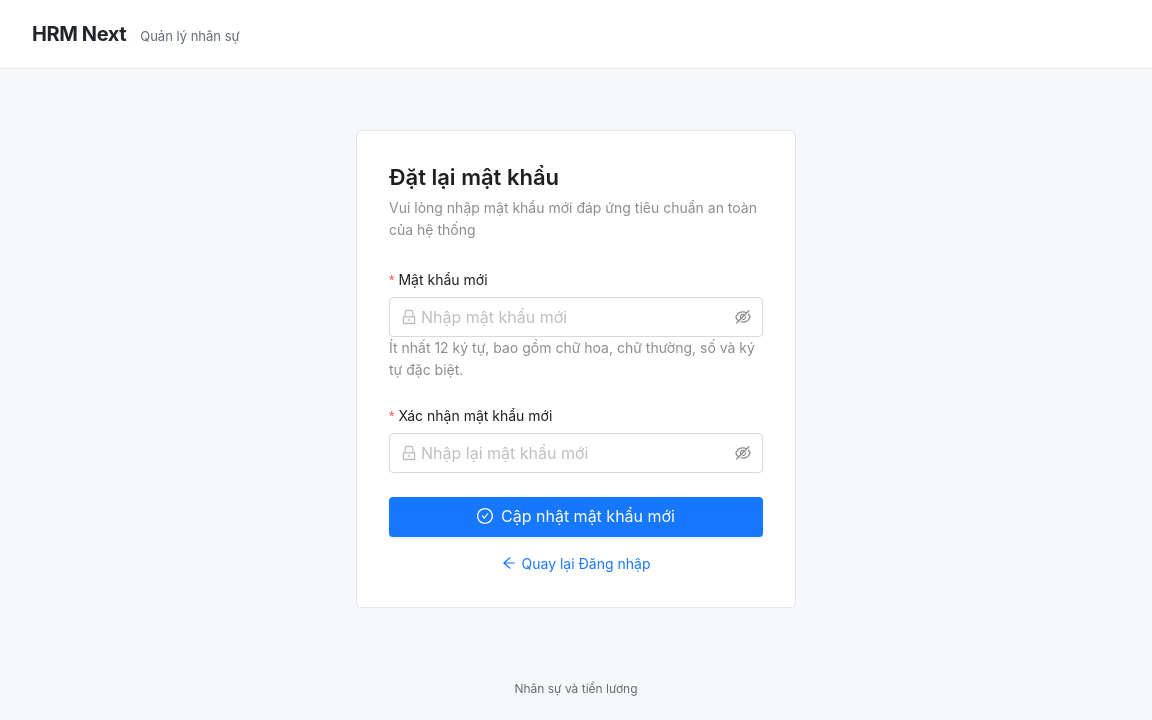
Test: Vietnamese Forms, Accessibility, and Security Sanitization Tests › enforces strong password validation on client-side (min 12 chars, upper, lower, digit, special)
Type "short" into the password field labelled "Mật khẩu mới" at (576, 317), box x1=421 y1=305 x2=731 y2=329
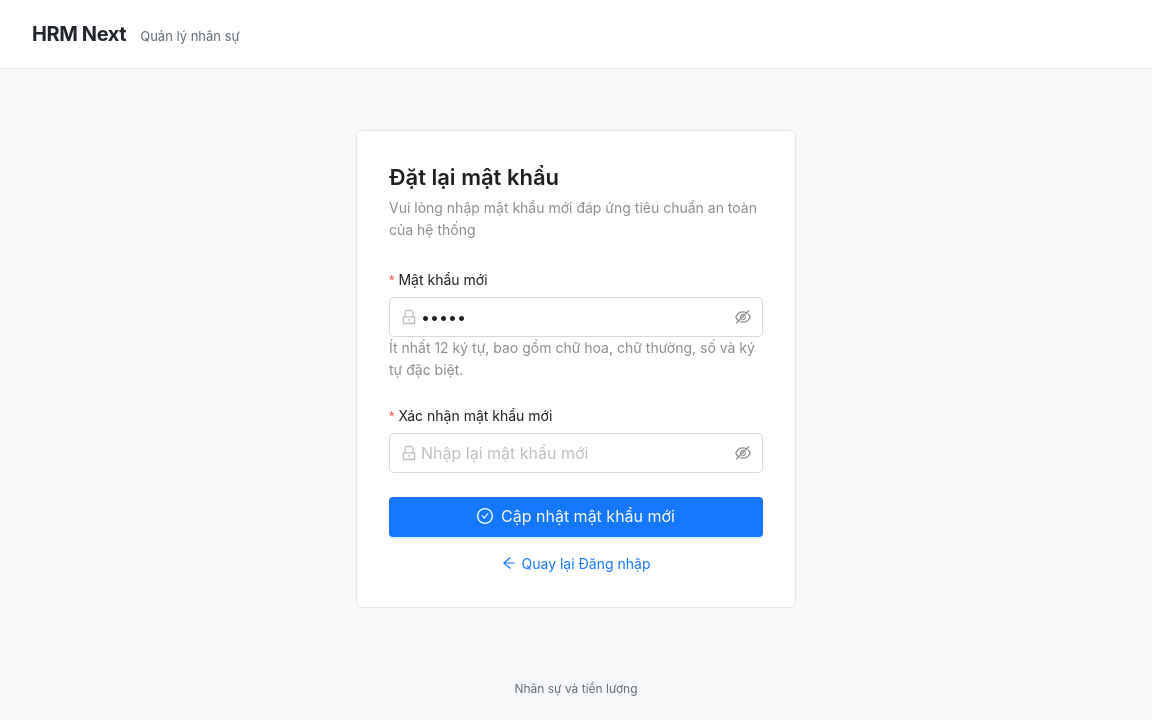
Type "short" into the password field labelled "Xác nhận mật khẩu mới" at (576, 453), box x1=421 y1=441 x2=731 y2=465
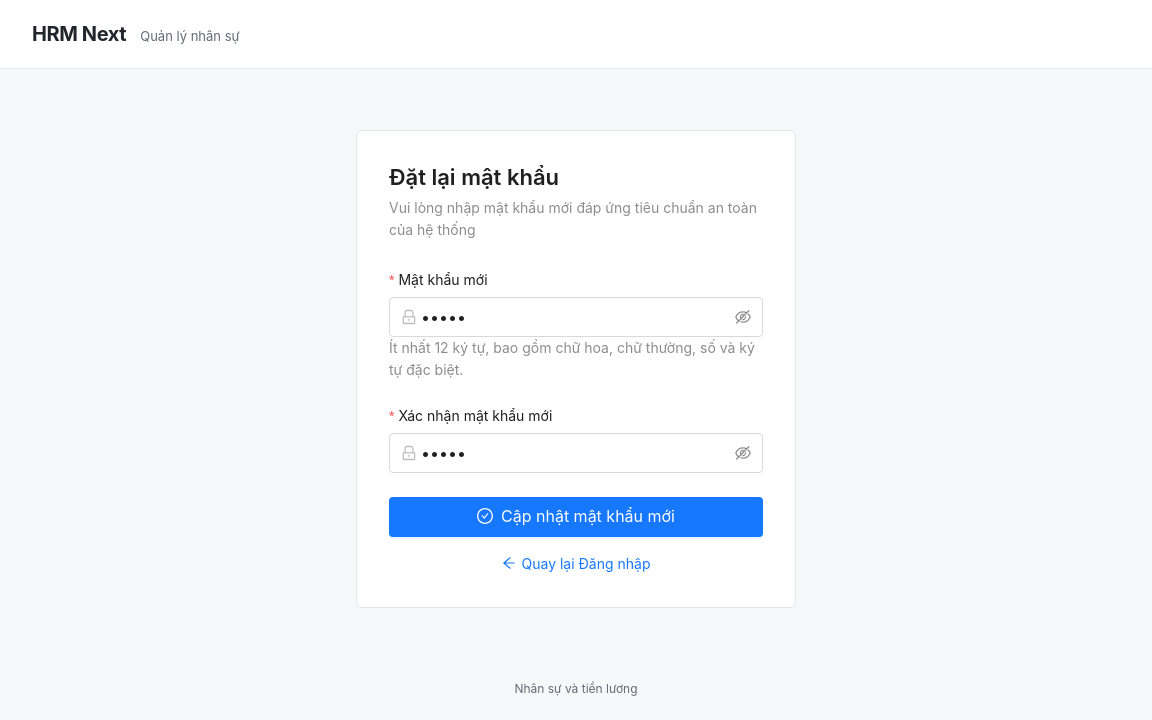
Submit the form labelled "Mật khẩu mới", box x1=389 y1=269 x2=763 y2=575
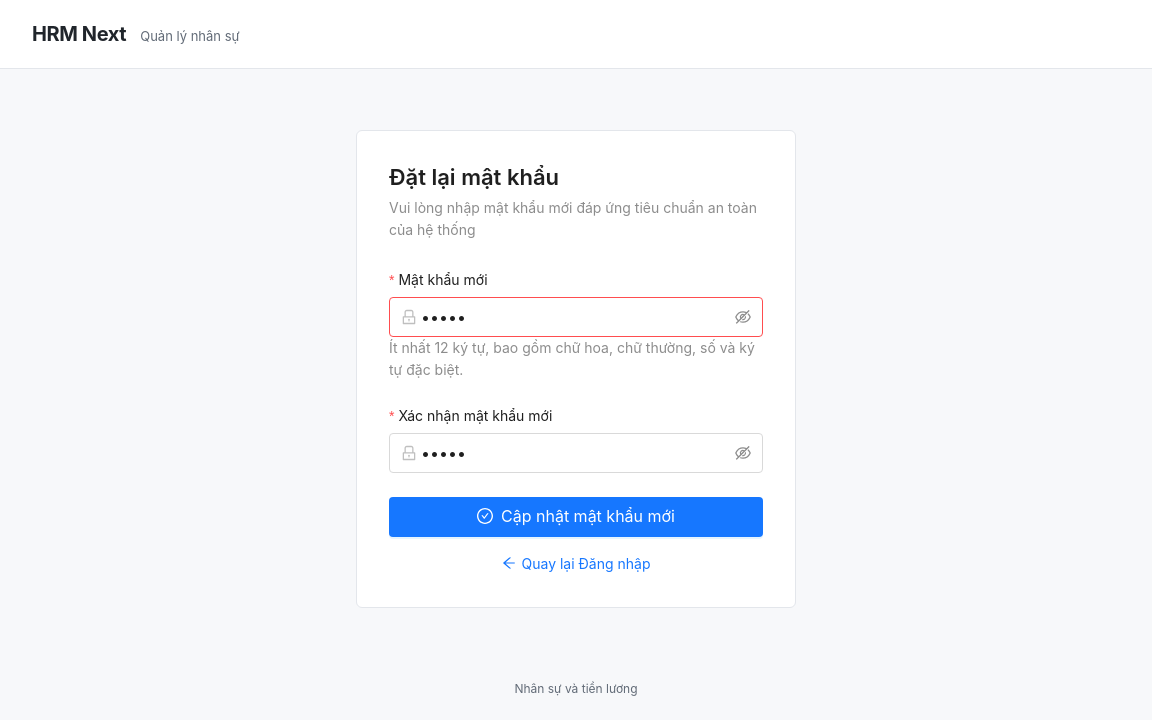
Type "OnlyLettersLongPassword" into the password field labelled "Mật khẩu mới" at (576, 317), box x1=421 y1=305 x2=731 y2=329
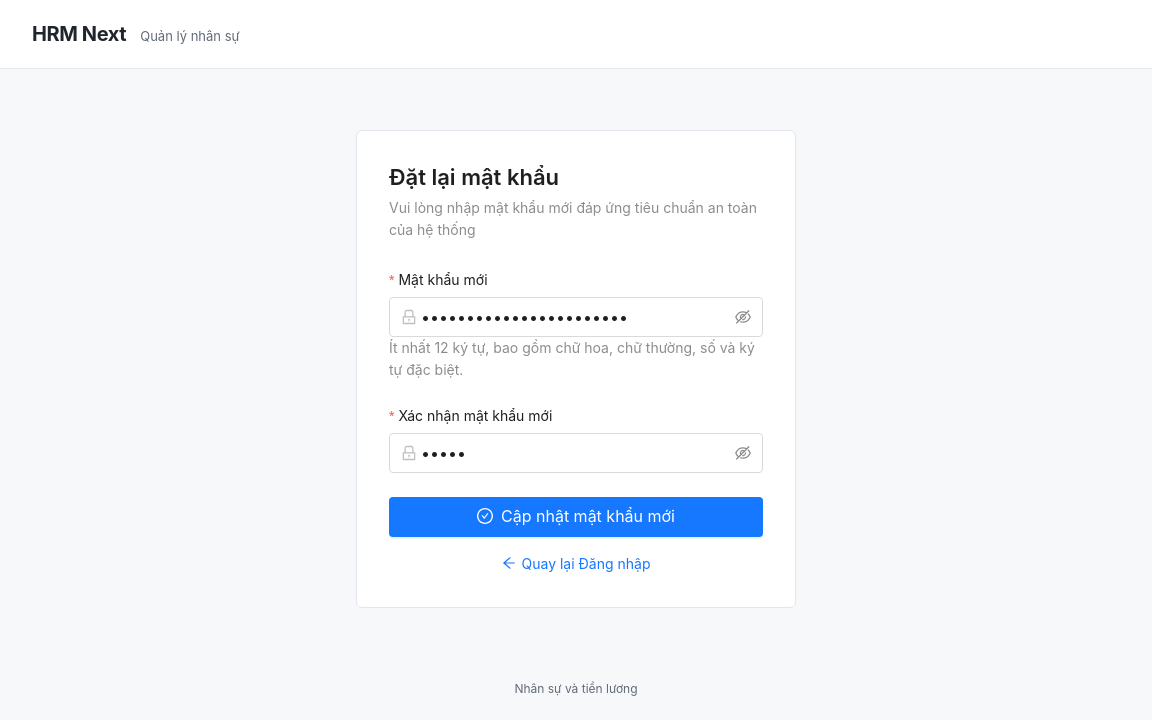
Type "OnlyLettersLongPassword" into the password field labelled "Xác nhận mật khẩu mới" at (576, 453), box x1=421 y1=441 x2=731 y2=465
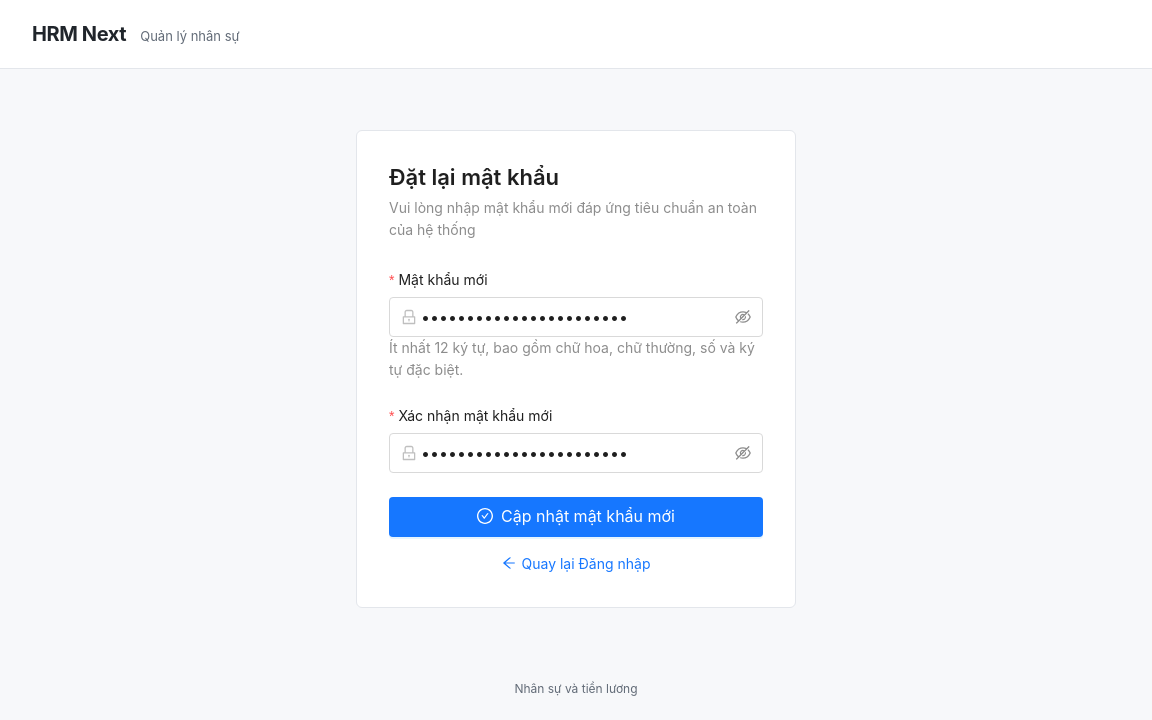
Submit the form labelled "Mật khẩu mới", box x1=389 y1=269 x2=763 y2=575
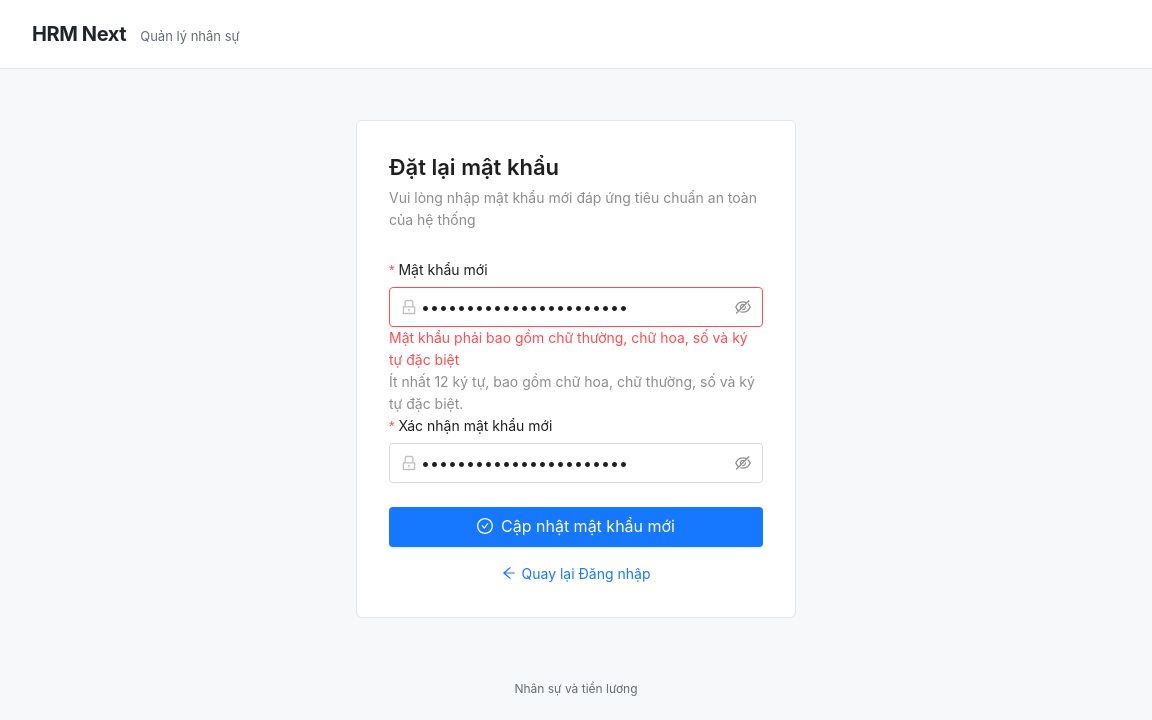
Now the text "Mật khẩu phải bao gồm chữ thường, chữ hoa, số và ký tự đặc biệt" is shown, box x1=389 y1=327 x2=763 y2=371
